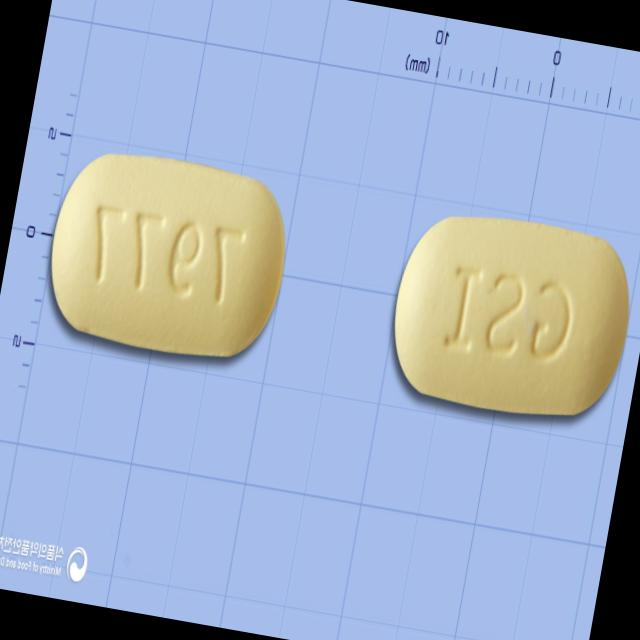Clarimacin - 500mg: (378, 199, 640, 432), (35, 142, 298, 370)
